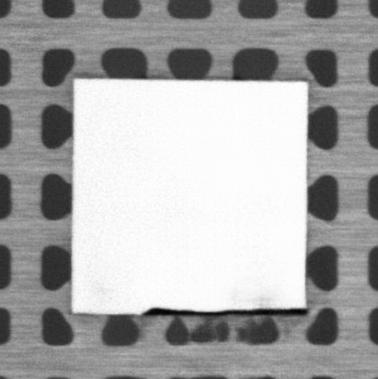DIE_BROKEN: (141, 304, 310, 317)
